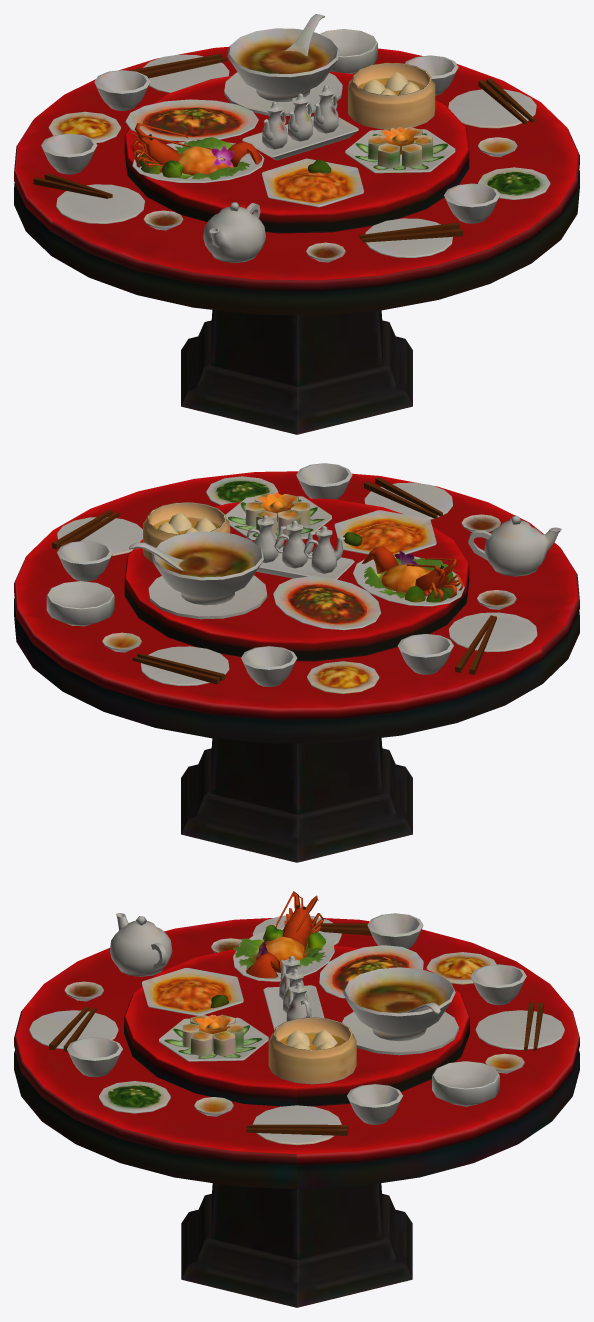
The picture shows the model from 3 angles, top to bottom: view 1: azimuth 30°, elevation 25°; view 2: azimuth 150°, elevation 25°; view 3: azimuth 270°, elevation 25°; orthographic projection.
Size of the model in its own units: 18.07 by 10.23 by 18.07.
Materials: 3 (3 with a texture image).
